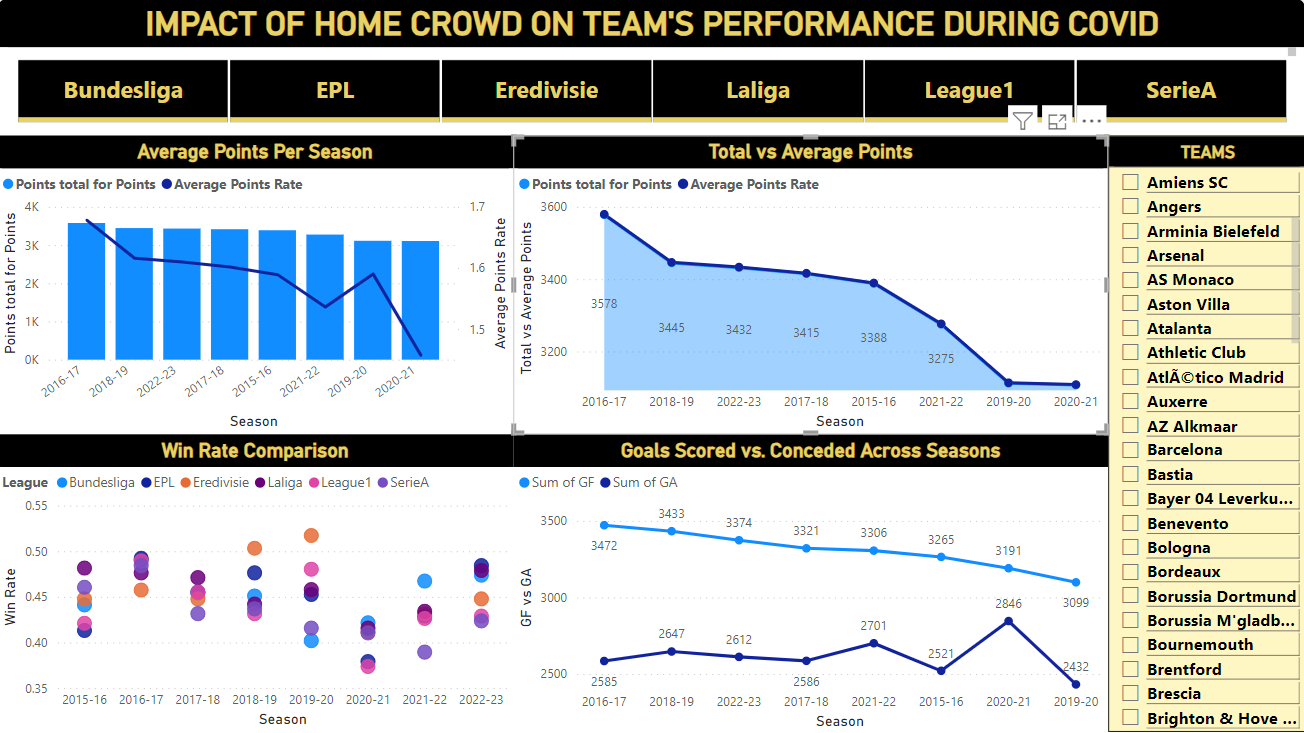

This screenshot's page, from the dashboard's own definition file:
{"tool":"powerbi","page":{"name":"Page 1","canvas":[1280,720],"ordinal":0},"visuals":[{"type":"scatterChart","title":"Win Rate Comparison","fields":{"Series":["All Leagues.League"],"X":["All Leagues.Season"],"Y":["All Leagues.Win Rate"]},"box":[0,426.6,504.9,292.2],"z":0},{"type":"slicer","title":"LEAGUES","fields":{"Values":["All Leagues.League"]},"box":[0,52.6,1279.9,75.8],"z":1000},{"type":"lineChart","title":"Goals Scored vs. Conceded Across Seasons","fields":{"Category":["All Leagues.Season"],"Y":["Sum(All Leagues.GF)","Sum(All Leagues.GA)"]},"box":[504.9,426.6,581.9,293.4],"z":2000},{"type":"slicer","title":"TEAMS","fields":{"Values":["All Leagues.Team"]},"box":[1086.7,134.5,193.1,583.1],"z":3000},{"type":"actionButton","box":[0,0,100,40],"z":4000},{"type":"lineClusteredColumnComboChart","title":"Average Points Per Season","fields":{"Category":["All Leagues.Season"],"Y2":["All Leagues.Average Points Rate"],"Y":["All Leagues.Points total for Points"]},"box":[0,134.5,504.9,292.2],"z":5000},{"type":"stackedAreaChart","title":"Total vs Average Points","fields":{"Category":["All Leagues.Season"],"Y":["All Leagues.Points total for Points","All Leagues.Average Points Rate"]},"box":[504.9,134.5,581.9,292.2],"z":6000},{"type":"textbox","title":"IMPACT OF HOME CROWD ON TEAM''S PERFORMANCE DURING COVID","box":[0,0,1279.9,61.1],"z":7000}]}

Visuals, with their boxes in screenshot pixels (x1, y1, x2, y2), scaled from the page's 1280x720 canvas onto the 1304x733 screenshot:
"Win Rate Comparison" scatterChart: box(0, 434, 514, 732)
"LEAGUES" slicer: box(0, 54, 1303, 131)
"Goals Scored vs. Conceded Across Seasons" lineChart: box(514, 434, 1107, 732)
"TEAMS" slicer: box(1107, 137, 1303, 731)
actionButton: box(0, 0, 102, 41)
"Average Points Per Season" lineClusteredColumnComboChart: box(0, 137, 514, 434)
"Total vs Average Points" stackedAreaChart: box(514, 137, 1107, 434)
"IMPACT OF HOME CROWD ON TEAM''S PERFORMANCE DURING COVID" textbox: box(0, 0, 1303, 62)
